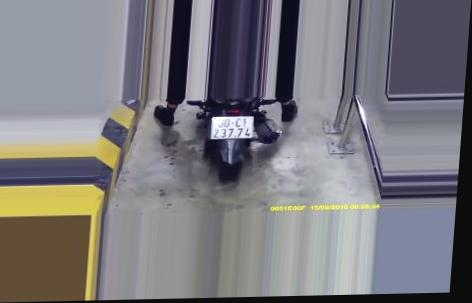License_Plate: (207, 112, 257, 143)
